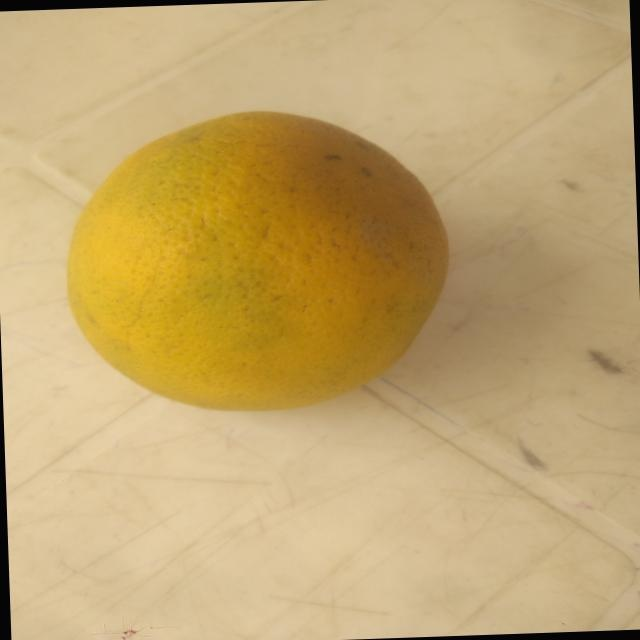agrume: (46, 91, 456, 454)
